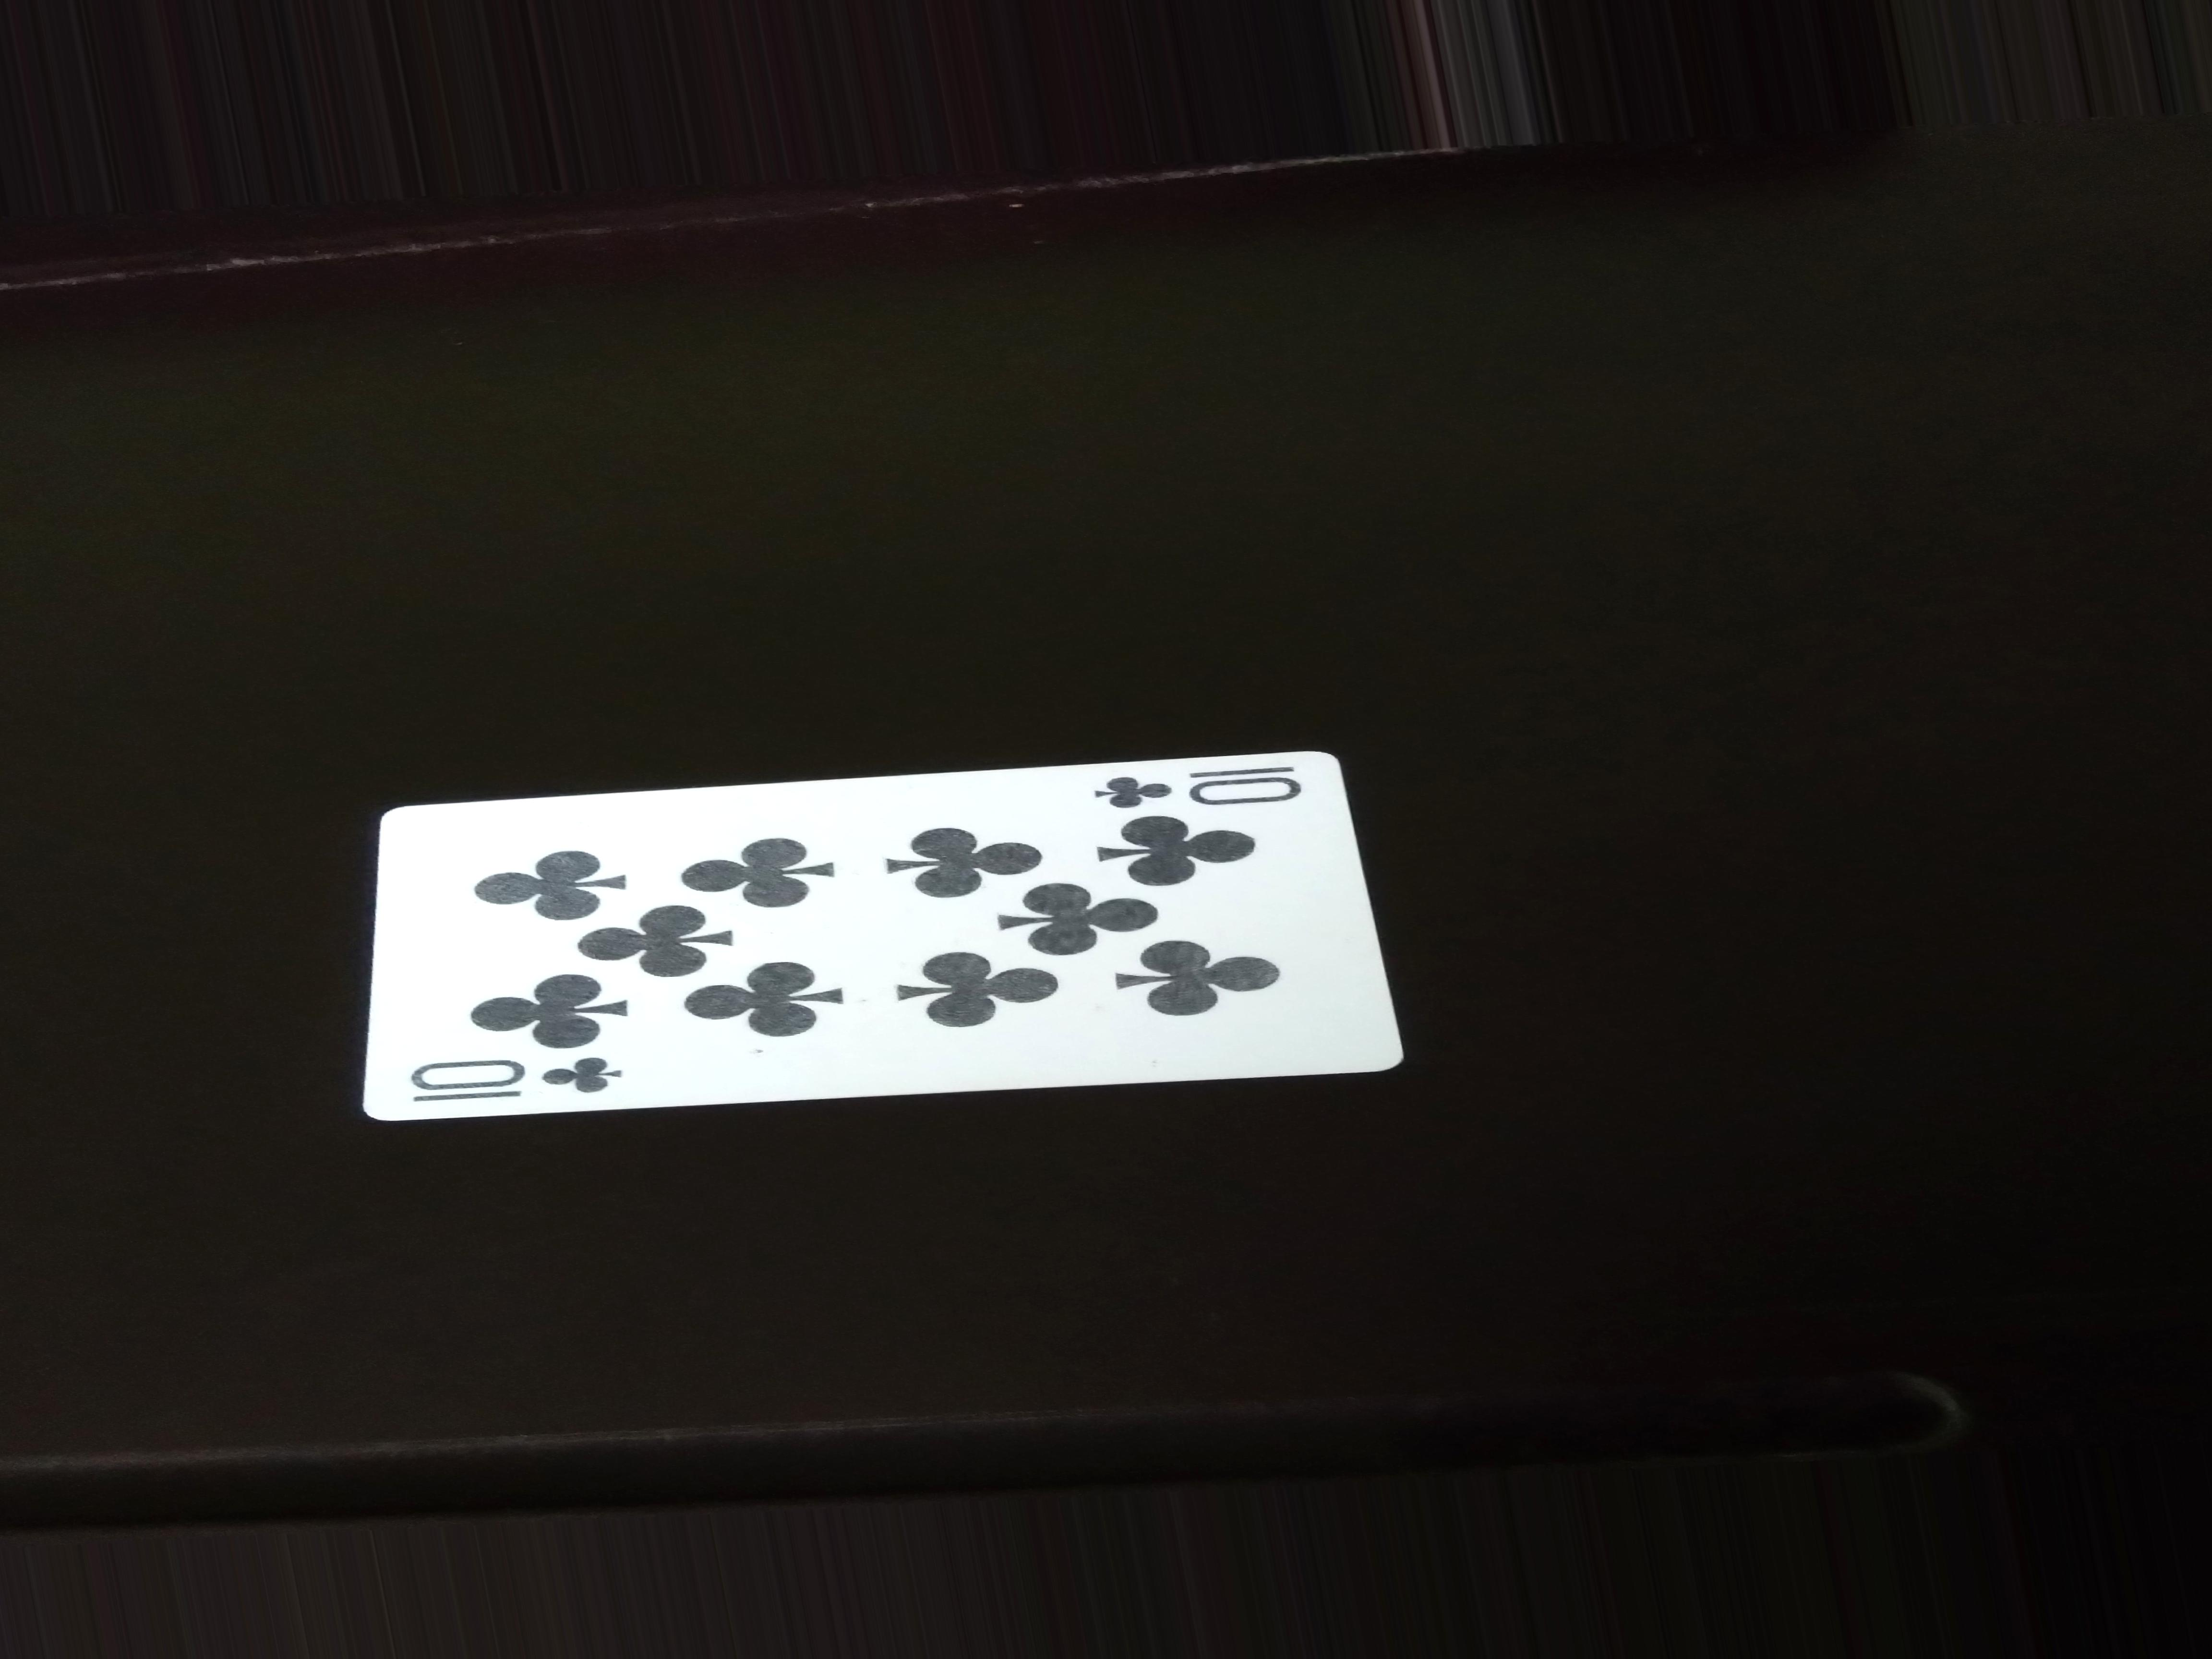10C: (395, 1053, 644, 1105)
